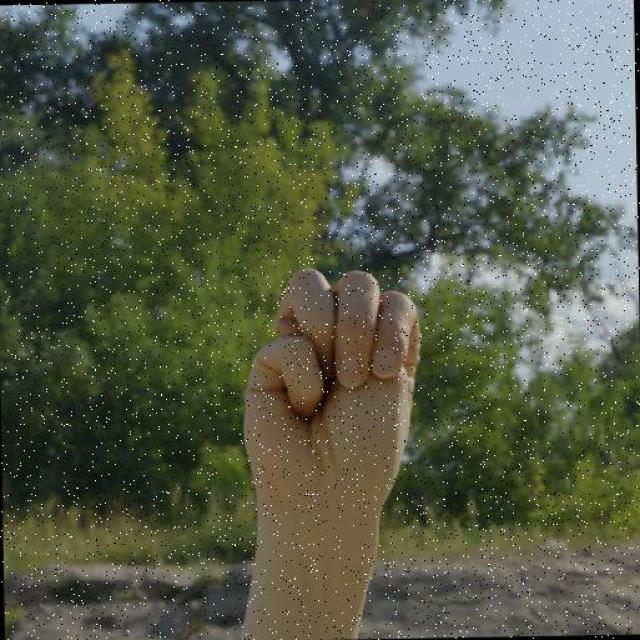M: (238, 263, 428, 516)
